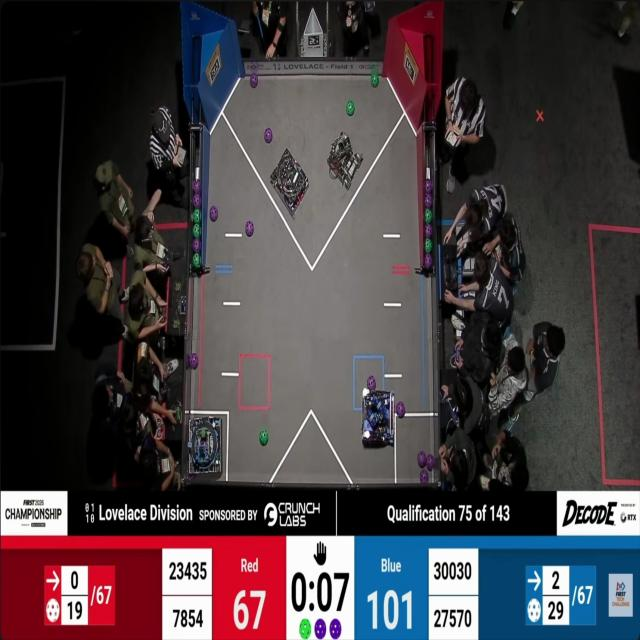artifact_green: (300, 619, 311, 639), (173, 403, 183, 424), (189, 353, 198, 370), (424, 253, 433, 269), (396, 402, 405, 418), (260, 430, 268, 446), (193, 253, 201, 268), (371, 72, 379, 87), (193, 180, 201, 194), (425, 224, 433, 238), (193, 209, 201, 223), (420, 469, 428, 483), (193, 238, 201, 252), (347, 101, 354, 116), (425, 208, 432, 223), (193, 224, 201, 237), (425, 239, 432, 253), (201, 429, 207, 438)
artifact_purple: (330, 619, 341, 639), (315, 619, 326, 639), (427, 453, 436, 471), (189, 354, 199, 370), (396, 402, 405, 418), (367, 376, 376, 392), (424, 179, 433, 194), (246, 221, 254, 237), (418, 452, 426, 468), (210, 206, 218, 222), (193, 238, 201, 253), (265, 128, 273, 143), (193, 180, 201, 194), (425, 254, 433, 268), (193, 194, 201, 208), (420, 469, 428, 483), (250, 74, 258, 88), (425, 193, 432, 208), (425, 224, 433, 237)
